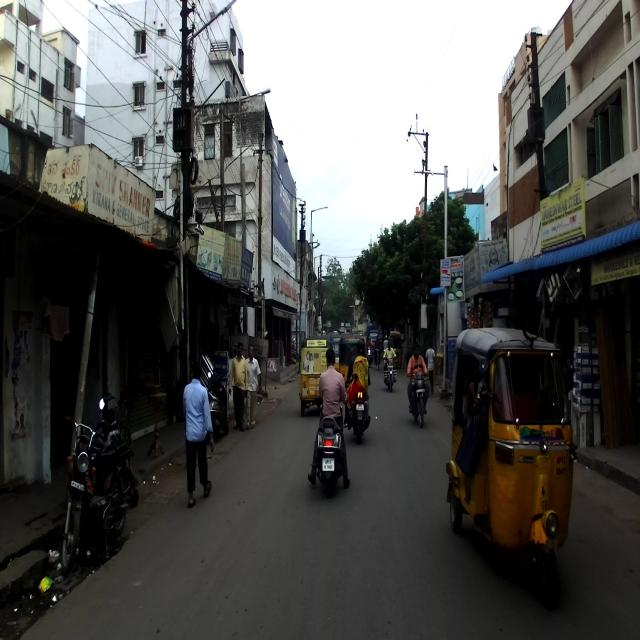autorickshaw: (445, 324, 579, 612)
motorcycle_Hero: (91, 391, 139, 513), (410, 367, 428, 424)
motorcycle_RoyalEnfield: (384, 354, 396, 389)
motorcycle_TVS: (62, 411, 132, 576)
motorcycle_bajaj: (345, 378, 371, 446)
scooter: (310, 396, 347, 502)
